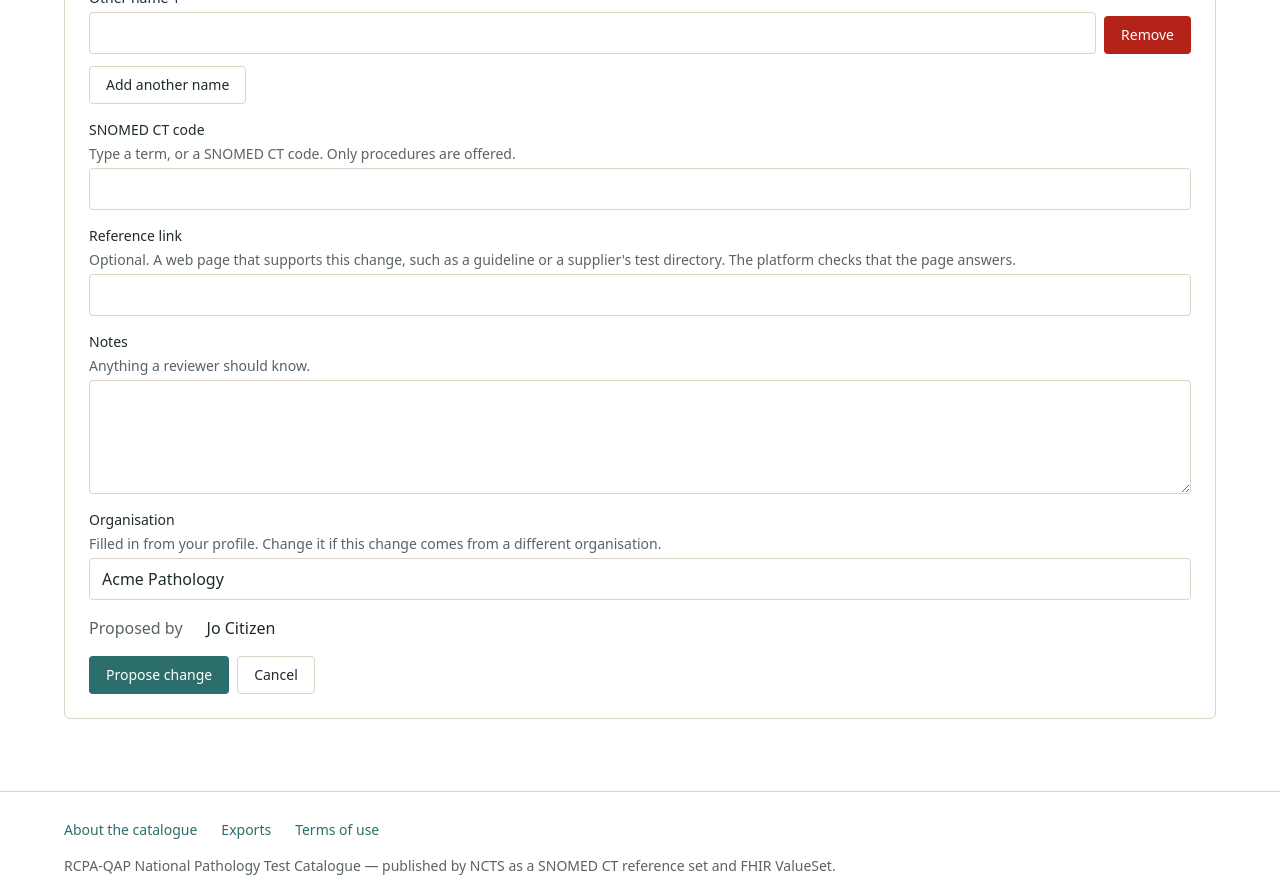
what holds an amendment back (FR-35) › says what to add when nothing is filled in, and sends nothing
(page scrolled)
Expected: the field labelled "Other name 1" is shown, [89, 12, 1096, 54]
Click the button "Propose change": point(159, 674) [89, 656, 229, 694]
(page scrolled)
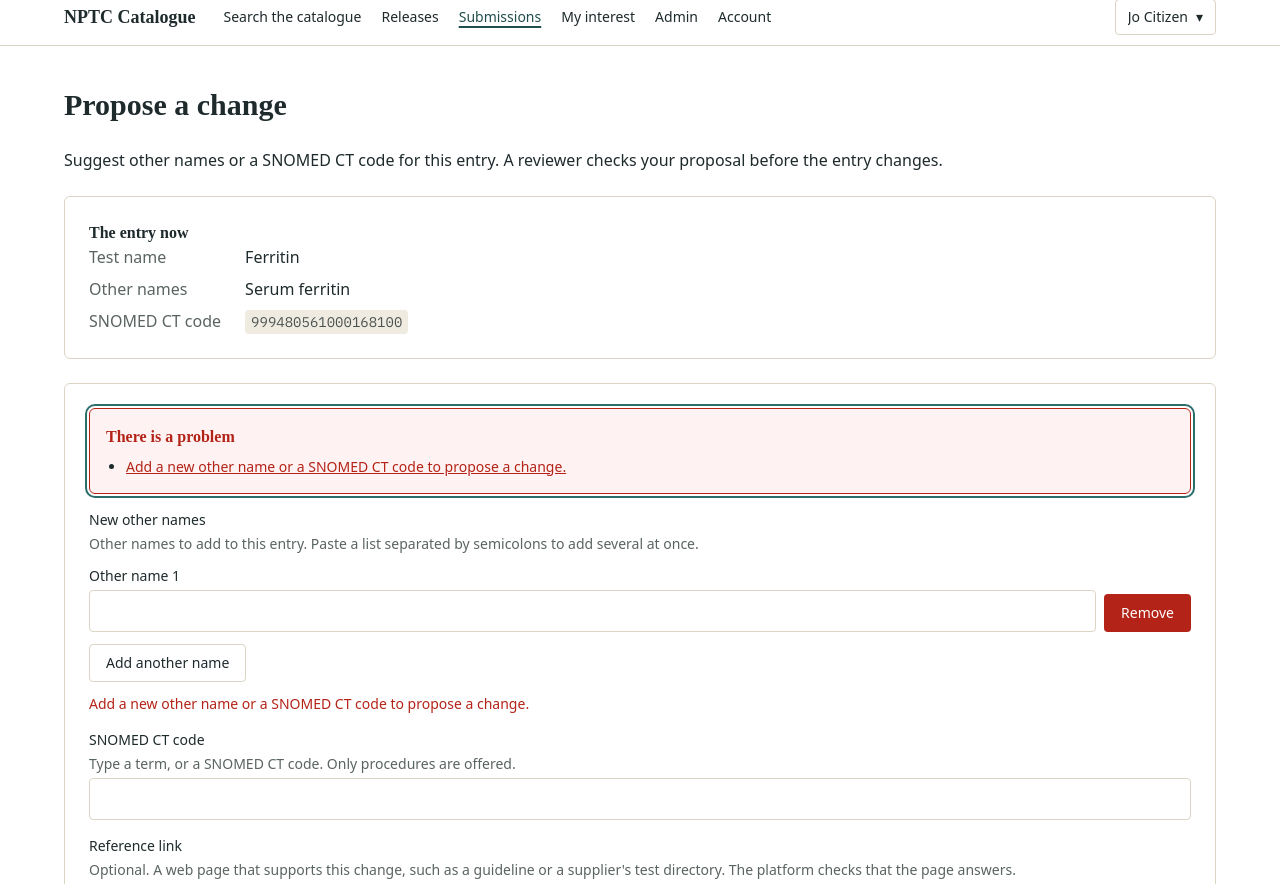
Expected: the link "Add a new other name or a SNOMED CT code to propose a change." is shown, [126, 456, 566, 476]
